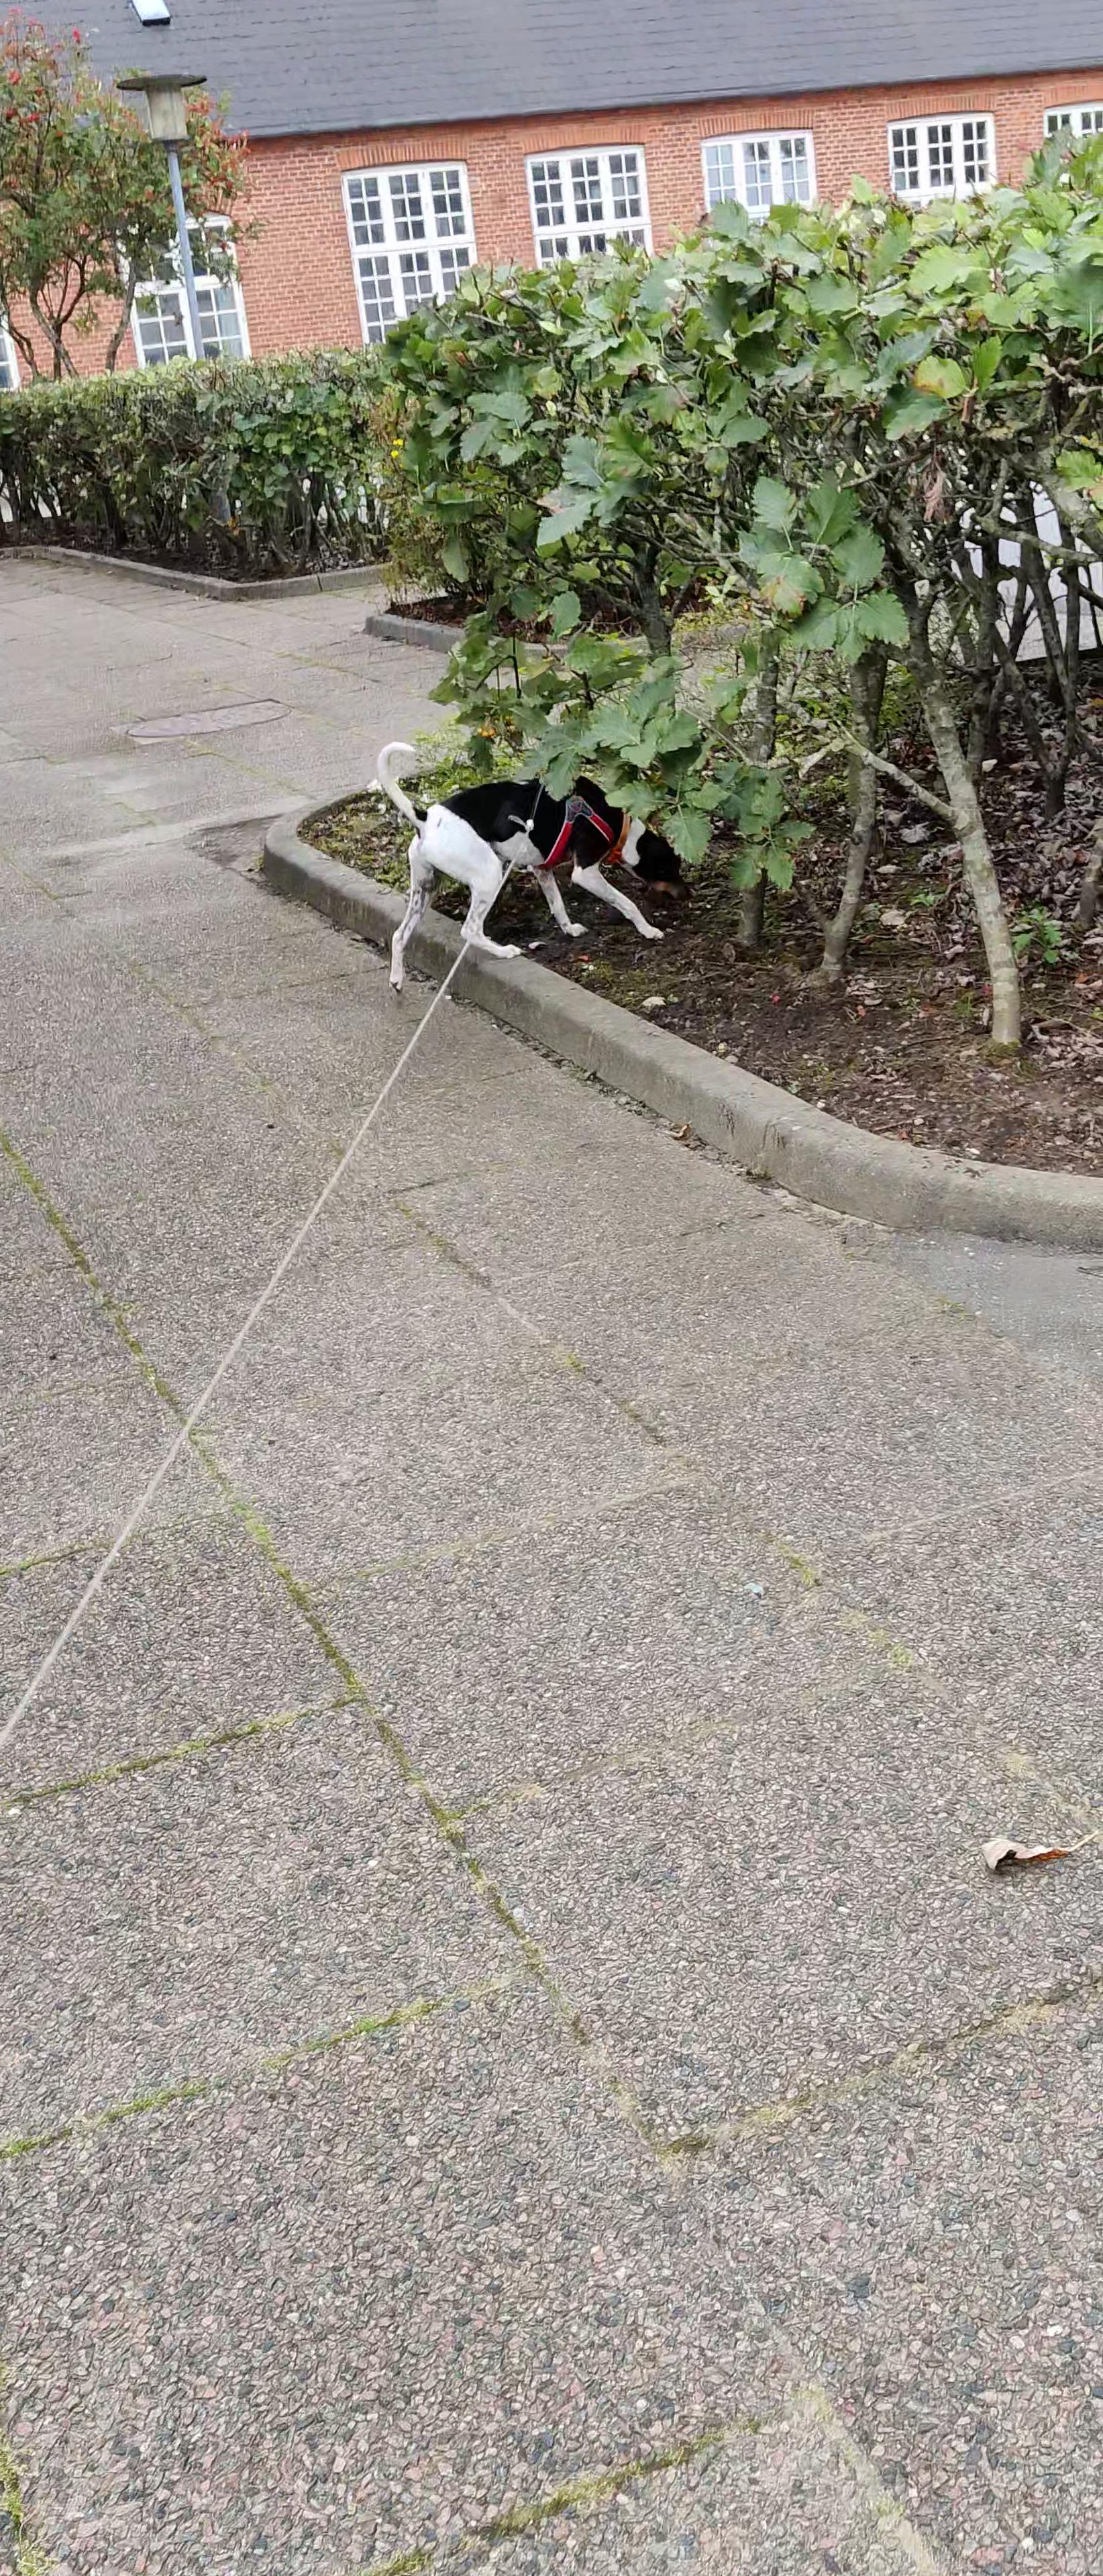Dog: (365, 726, 697, 1002)
